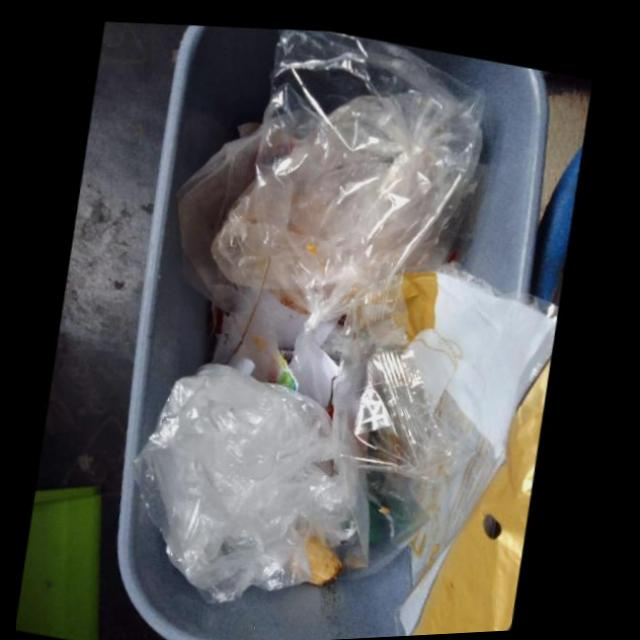tui_ni_long: (217, 23, 487, 314), (393, 258, 562, 636), (141, 357, 373, 596), (334, 257, 499, 581)
